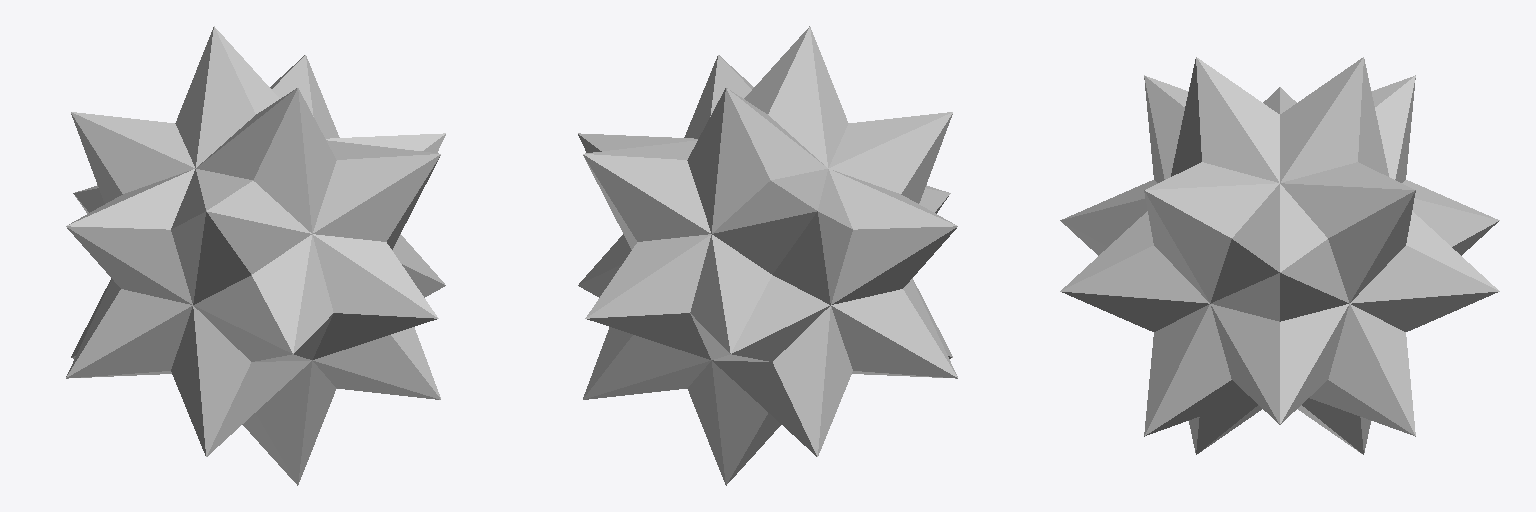
The model's file is great-dodecicosacron.obj.
The picture shows the model from 3 angles: view 1: azimuth 30°, elevation 25°; view 2: azimuth 150°, elevation 25°; view 3: azimuth 270°, elevation 25°; orthographic projection.
Visible parts, largest first — view 1: Great_Dodecicosacron_(Dual_of_10/3.6.10/7.6/5),_WD101,_p67_Great; view 2: Great_Dodecicosacron_(Dual_of_10/3.6.10/7.6/5),_WD101,_p67_Great; view 3: Great_Dodecicosacron_(Dual_of_10/3.6.10/7.6/5),_WD101,_p67_Great.
Boxes of the visible parts, x1=… form: Great_Dodecicosacron_(Dual_of_10/3.6.10/7.6/5),_WD101,_p67_Great: x1=66, y1=26, x2=445, y2=485; Great_Dodecicosacron_(Dual_of_10/3.6.10/7.6/5),_WD101,_p67_Great: x1=578, y1=26, x2=957, y2=485; Great_Dodecicosacron_(Dual_of_10/3.6.10/7.6/5),_WD101,_p67_Great: x1=1060, y1=57, x2=1499, y2=454.
Size of the model in its own units: 1.9 by 1.9 by 1.9.